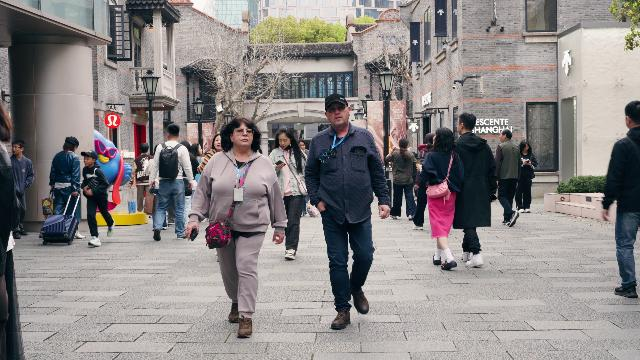person: (196, 108, 291, 342), (304, 93, 392, 330), (600, 100, 640, 298), (452, 112, 498, 268), (416, 127, 465, 271), (149, 124, 196, 241), (268, 126, 308, 261), (48, 136, 86, 239), (80, 150, 116, 247), (385, 138, 418, 221), (8, 140, 35, 240), (495, 129, 522, 227), (412, 132, 436, 230), (515, 139, 538, 214), (130, 143, 154, 213), (181, 140, 200, 227)
